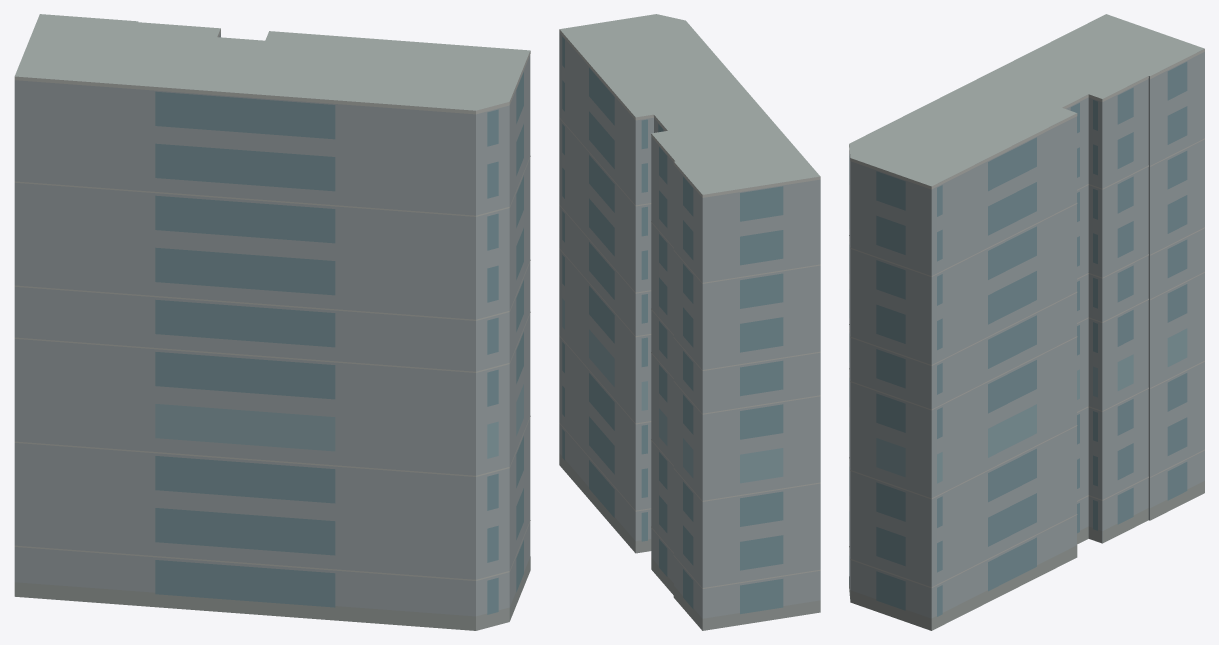
File: survey-upis-32986745.glb
The picture shows the model from 3 angles, left to right: view 1: azimuth 30°, elevation 25°; view 2: azimuth 150°, elevation 25°; view 3: azimuth 270°, elevation 25°; orthographic projection. The views are drawn at different scales.
Visible parts, largest first — view 1: survey-upis-32986745.tmp; view 2: survey-upis-32986745.tmp; view 3: survey-upis-32986745.tmp.
Boxes of the visible parts, x1,y1,x2,y2 form: survey-upis-32986745.tmp: (14,14,530,630); survey-upis-32986745.tmp: (559,14,820,630); survey-upis-32986745.tmp: (849,14,1204,630).
Bounding box in the file's own units: 28.73 × 34.5 × 25.04.
